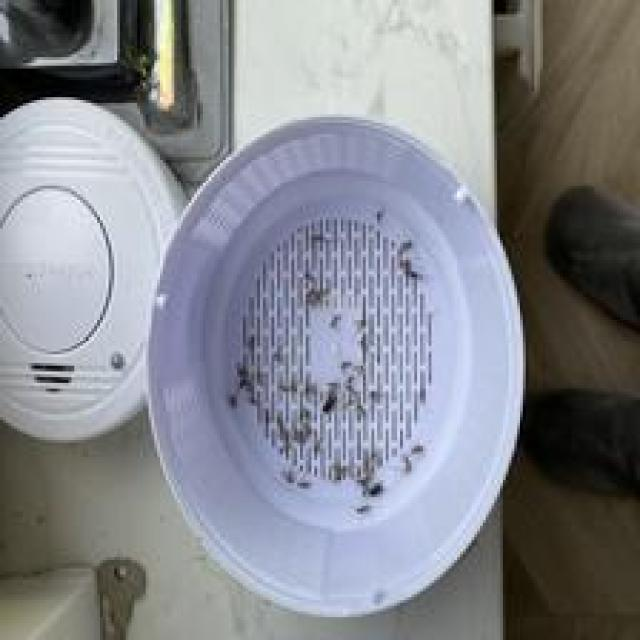Culex: (0, 95, 191, 444)
